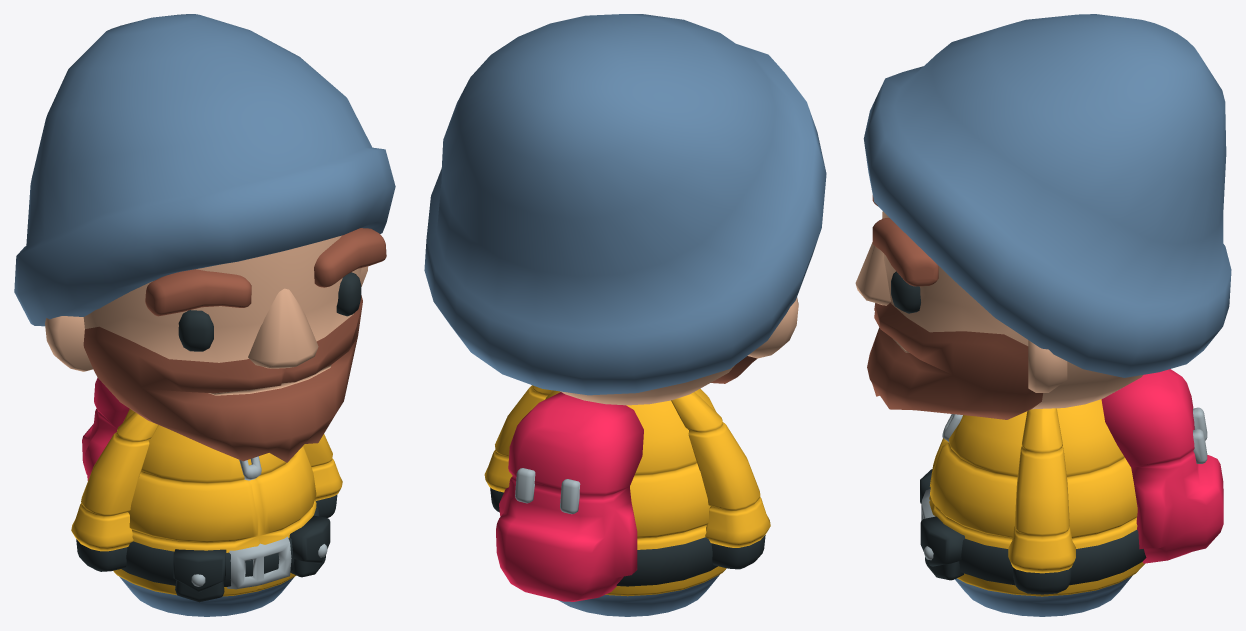
Rendered from character_polarExplorer.gltf.
The picture shows the model from 3 angles, left to right: view 1: azimuth 30°, elevation 25°; view 2: azimuth 150°, elevation 25°; view 3: azimuth 270°, elevation 25°; orthographic projection. The views are drawn at different scales.
Parts seen in each view (by area): view 1: character_polarExplorerHeadA, character_polarExplorerBody, character_polarExplorerArmRight, backpack, character_polarExplorerArmLeft; view 2: character_polarExplorerHeadA, backpack, character_polarExplorerBody, character_polarExplorerArmRight, character_polarExplorerArmLeft; view 3: character_polarExplorerHeadA, character_polarExplorerBody, backpack, character_polarExplorerArmLeft.
Part boxes in pixels (bbox=[...]): character_polarExplorerHeadA: bbox=[14, 14, 395, 462]; character_polarExplorerBody: bbox=[113, 409, 330, 616]; character_polarExplorerArmRight: bbox=[71, 412, 158, 571]; backpack: bbox=[82, 377, 129, 480]; character_polarExplorerArmLeft: bbox=[303, 434, 342, 517]; character_polarExplorerHeadA: bbox=[424, 14, 826, 405]; backpack: bbox=[496, 392, 643, 601]; character_polarExplorerBody: bbox=[545, 388, 726, 616]; character_polarExplorerArmRight: bbox=[671, 392, 770, 569]; character_polarExplorerArmLeft: bbox=[484, 385, 553, 512]; character_polarExplorerHeadA: bbox=[855, 14, 1231, 419]; character_polarExplorerBody: bbox=[920, 399, 1146, 616]; backpack: bbox=[1101, 369, 1223, 563]; character_polarExplorerArmLeft: bbox=[1008, 408, 1075, 594].
Bounding box in the file's own units: 1.25 × 1.89 × 1.16.
